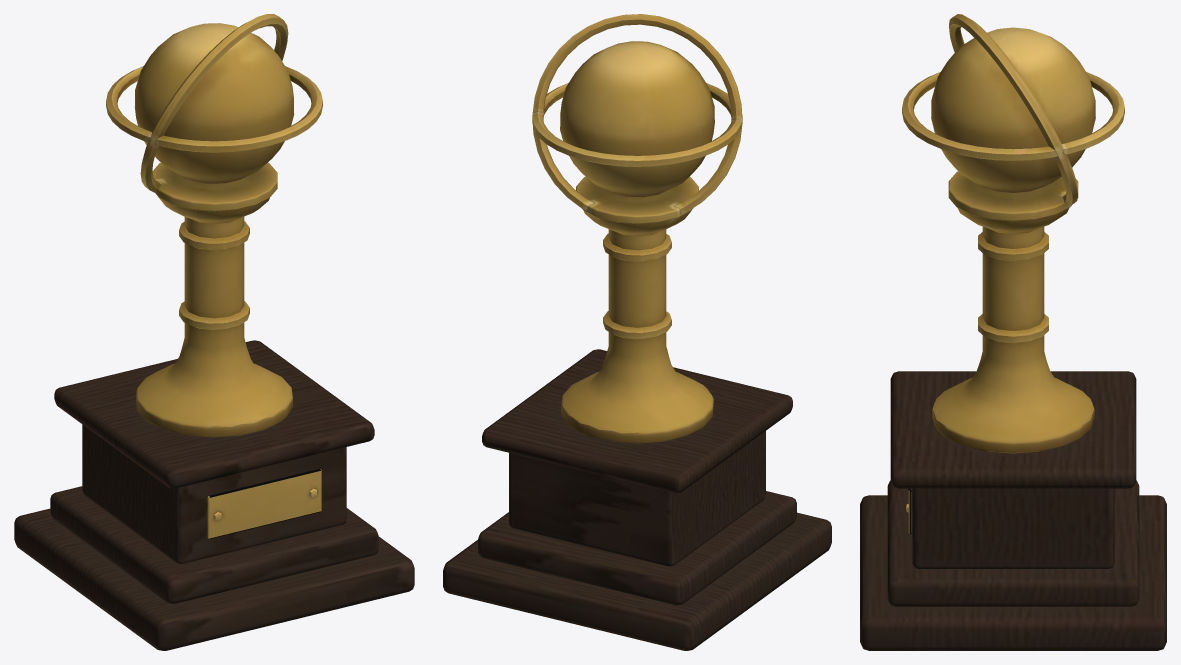
The model's file is trophy-plinth-small.glb.
3 renders of one model, left to right at view 1: azimuth 30°, elevation 25°; view 2: azimuth 150°, elevation 25°; view 3: azimuth 270°, elevation 25°, orthographic. The views are drawn at different scales.
Parts seen in each view (by area): view 1: trophy; view 2: trophy; view 3: trophy.
Part boxes in pixels (left/top/right/bottom): trophy: left=14, top=14, right=414, bottom=650; trophy: left=443, top=14, right=831, bottom=650; trophy: left=860, top=14, right=1166, bottom=650.
Bounding box in the file's own units: 0.1 × 0.2062 × 0.1.
1 material, 1 textured.
